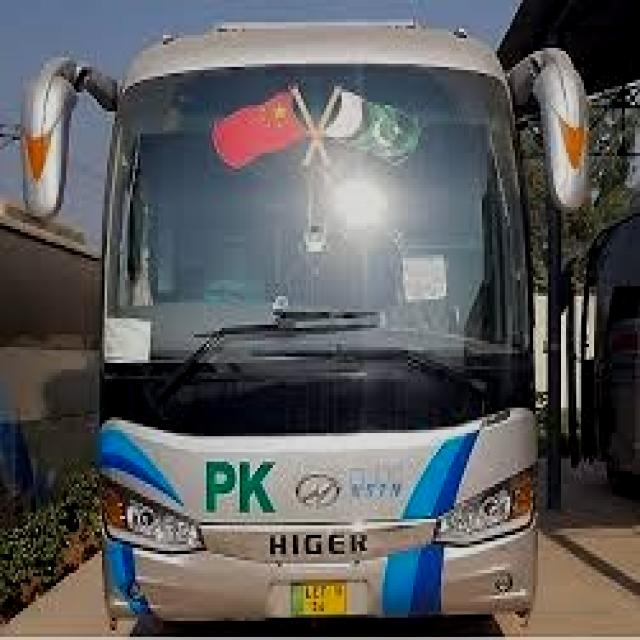bus: (19, 4, 623, 640)
